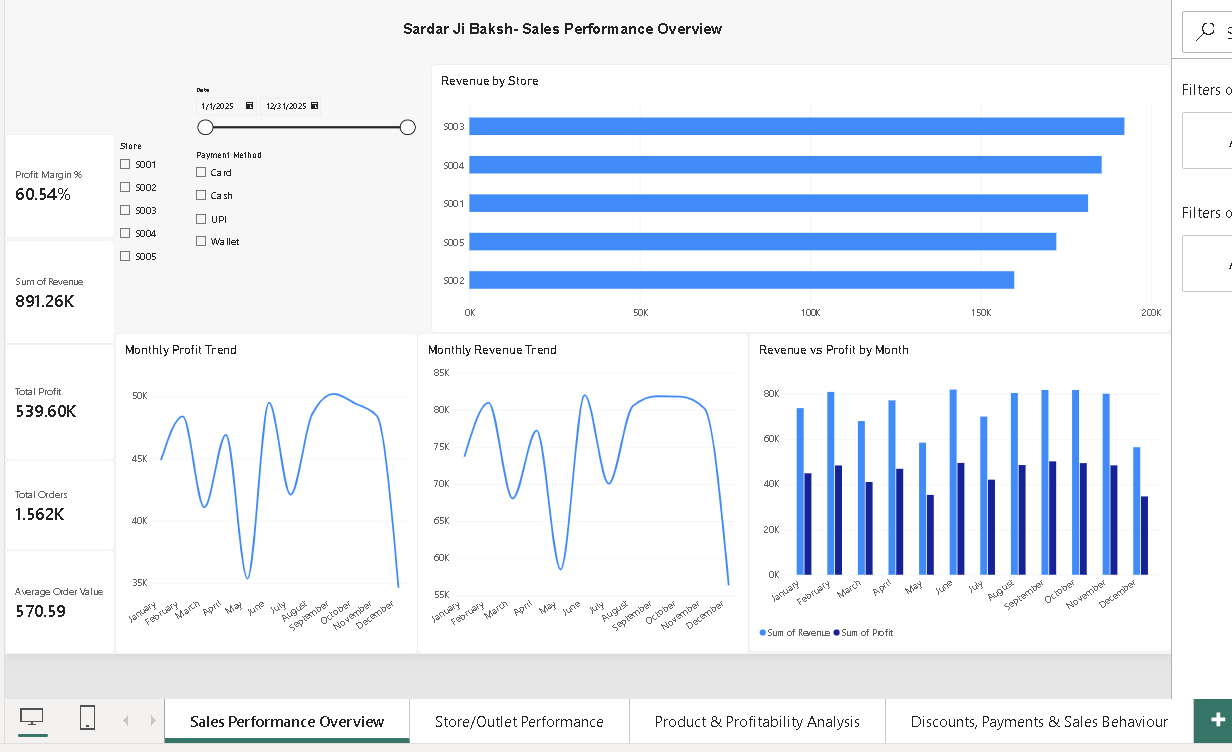

The dashboard page shown, as its layout file describes it:
{"tool":"powerbi","page":{"name":"Sales Performance Overview","canvas":[1920,1080],"ordinal":0},"visuals":[{"type":"cardVisual","fields":{"Data":["Sum(Sales.Revenue)"]},"box":[0,399.3,181.1,170.8],"z":0},{"type":"cardVisual","fields":{"Data":["Sum(Sales.Profit)"]},"box":[0,570.2,181.1,191.4],"z":1000},{"type":"cardVisual","fields":{"Data":["CountNonNull(Sales.Invoice_ID)"]},"box":[0,761.6,181.1,148.2],"z":2000},{"type":"cardVisual","fields":{"Data":["Avg(Sales.Revenue)"]},"box":[0,909.8,181.1,170.8],"z":3000},{"type":"cardVisual","fields":{"Data":["Business_Info.Profit Margin %"]},"box":[0,224.4,181.1,170.8],"z":4000},{"type":"lineChart","title":"Monthly Revenue Trend","fields":{"Y":["Sum(Sales.Revenue)"],"Category":["Sales.Date.Variation.Date Hierarchy.Year","Sales.Date.Variation.Date Hierarchy.Month"]},"box":[679.2,551.6,545.5,529],"z":5000},{"type":"lineChart","title":"Monthly Profit Trend","fields":{"Category":["Sales.Date.Variation.Date Hierarchy.Year","Sales.Date.Variation.Date Hierarchy.Month"],"Y":["Sum(Sales.Profit)"]},"box":[181.1,551.6,498.1,529],"z":5001},{"type":"clusteredBarChart","title":"Revenue by Store","fields":{"Y":["Sum(Sales.Revenue)"],"Category":["Stores.Store_ID"]},"box":[701.9,109.1,1218.5,442.5],"z":5002},{"type":"clusteredColumnChart","title":"Revenue vs Profit by Month","fields":{"Category":["Sales.Date.Variation.Date Hierarchy.Year","Sales.Date.Variation.Date Hierarchy.Month"],"Y":["Sum(Sales.Revenue)","Sum(Sales.Profit)"]},"box":[1224.7,551.6,695.7,524.9],"z":5003},{"type":"slicer","fields":{"Values":["Sales.Date"]},"box":[306.7,144.1,372.6,105],"z":5004},{"type":"slicer","fields":{"Values":["Stores.Store_ID"]},"box":[181.1,234.6,148.2,218.2],"z":5005},{"type":"slicer","fields":{"Values":["Sales.Payment_Method"]},"box":[306.7,249.1,150.3,203.8],"z":5006},{"type":"textbox","box":[654.5,37,763.6,72],"z":5007}]}

Visuals, with their boxes on the page's 1920x1080 design canvas (x1, y1, x2, y2). These are canvas units, not pixel positions in the 1232x752 screenshot, which may show the page scaled, cropped or inside an application window:
cardVisual - Sum(Sales.Revenue): <box>0,399,181,570</box>
cardVisual - Sum(Sales.Profit): <box>0,570,181,762</box>
cardVisual - CountNonNull(Sales.Invoice_ID): <box>0,762,181,910</box>
cardVisual - Avg(Sales.Revenue): <box>0,910,181,1081</box>
cardVisual - Business_Info.Profit Margin %: <box>0,224,181,395</box>
"Monthly Revenue Trend" lineChart: <box>679,552,1225,1081</box>
"Monthly Profit Trend" lineChart: <box>181,552,679,1081</box>
"Revenue by Store" clusteredBarChart: <box>702,109,1920,552</box>
"Revenue vs Profit by Month" clusteredColumnChart: <box>1225,552,1920,1076</box>
slicer - Sales.Date: <box>307,144,679,249</box>
slicer - Stores.Store_ID: <box>181,235,329,453</box>
slicer - Sales.Payment_Method: <box>307,249,457,453</box>
textbox: <box>654,37,1418,109</box>
